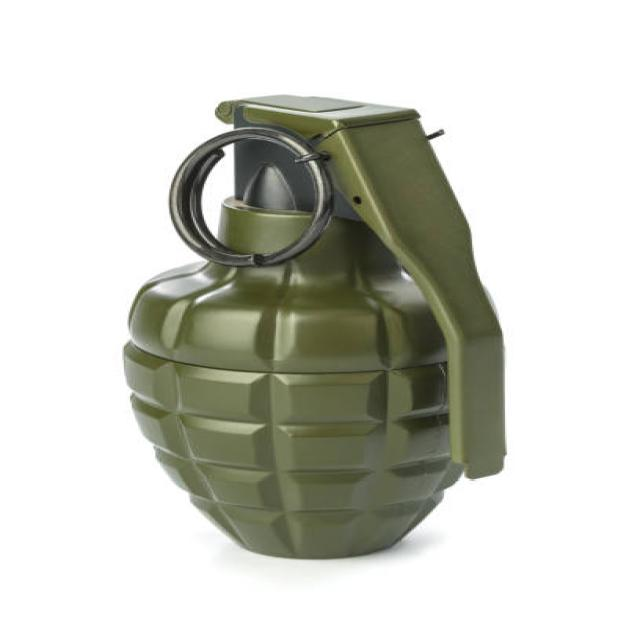grenade: (117, 85, 512, 576)
